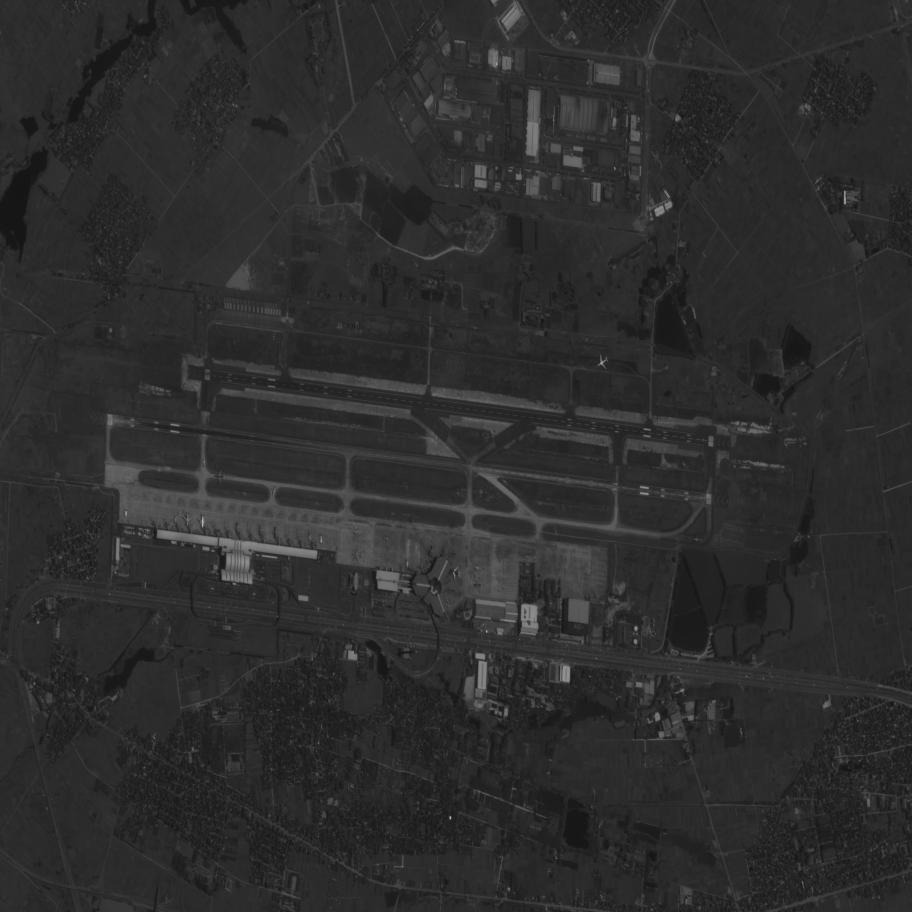plane: (593, 351, 613, 373), (447, 564, 464, 582), (195, 513, 209, 529), (213, 468, 226, 485), (181, 512, 194, 527), (352, 547, 364, 563), (425, 544, 437, 557), (268, 485, 279, 497), (692, 535, 704, 545), (232, 522, 241, 533), (352, 528, 361, 538), (473, 580, 482, 590), (271, 526, 279, 537), (256, 524, 264, 534), (317, 534, 325, 544), (383, 534, 391, 544), (474, 563, 482, 573), (200, 458, 208, 467), (306, 532, 314, 541), (403, 559, 411, 568), (122, 510, 129, 519), (172, 515, 179, 523)
storage-tank: (633, 625, 638, 632), (633, 640, 638, 645), (632, 632, 635, 636), (654, 632, 657, 636), (653, 619, 656, 622), (636, 632, 638, 636), (653, 624, 655, 627)
